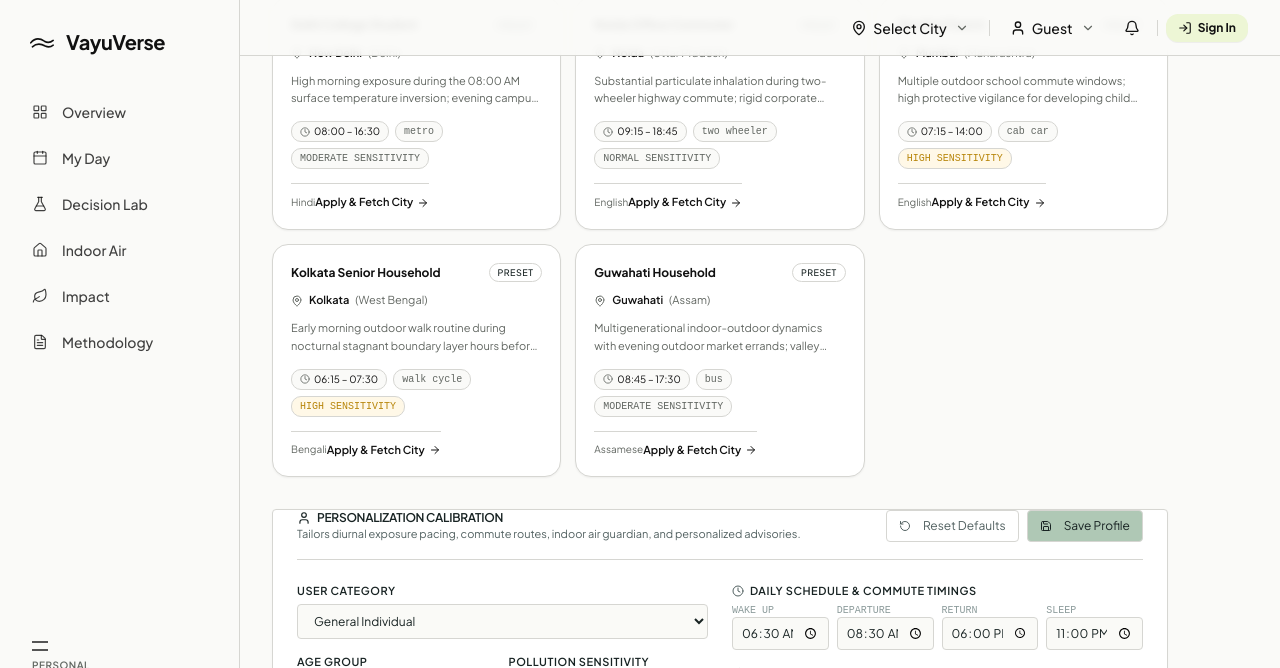
Comprehensive E2E Critical Workflows Audit › switches profile persona and calibrates schedule parameters
(page scrolled)
Note: Click Kolkata Senior Citizen Preset button by testid
What coordinates should you click on to do the following:
click the button with test id "preset-card-kolkata_senior"
I would click on:
 (417, 360)
Its box is [272,244,561,477].
(page scrolled)
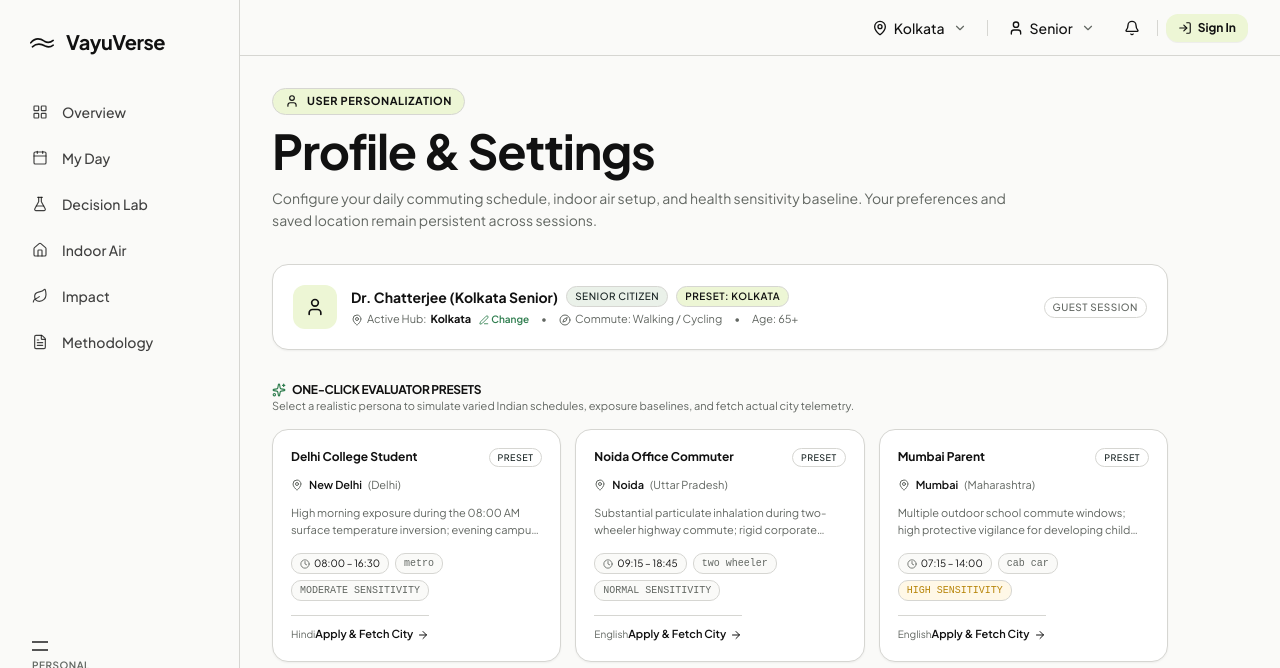
Expected: the text "Dr. Chatterjee (Kolkata Senior)" is shown, [351,287,558,307]
